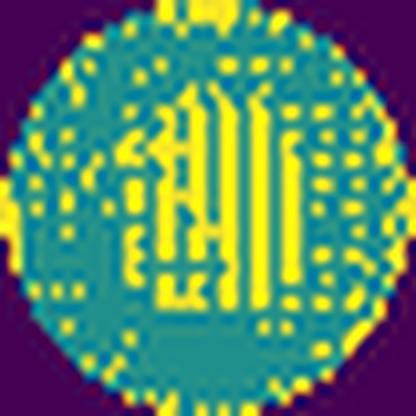Center: (117, 78, 306, 314)
